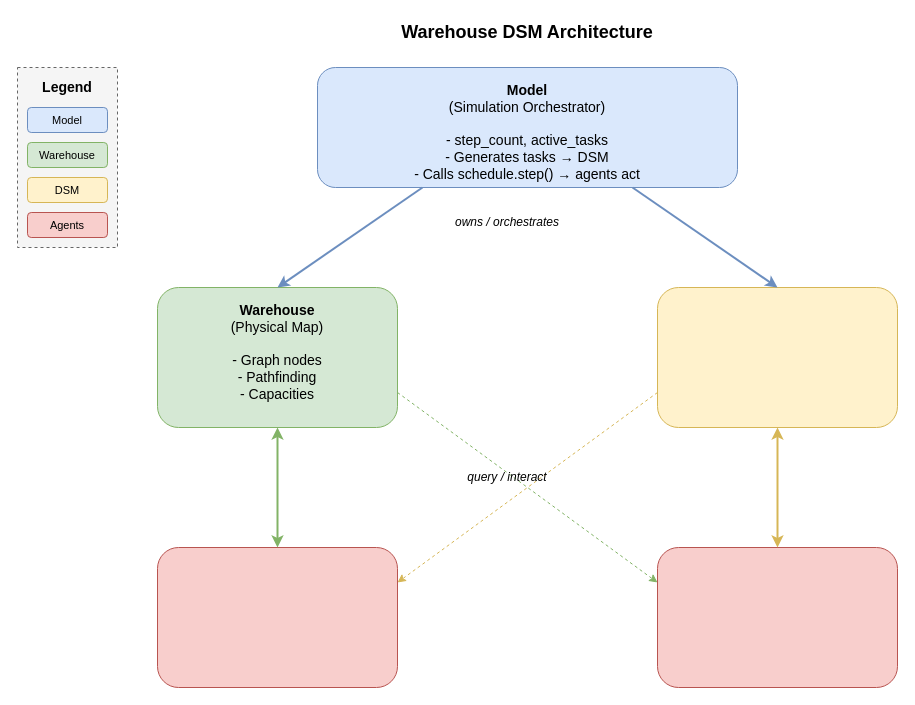
Image size: 915x705. Some labels were removed from this diagram. Here are the shapes that lost their labels. From the top down, the centre of each, then its label:
At point (777, 357): "DSM Registry (Task Data) - task_registry - create_task() - claim_task()".
At point (277, 617): "Agent 0 - node=15 - state=IDLE - Plan path - Claim tasks".
At point (777, 617): "Agent 1 ... N - node=42 - state=WORKING - Plan path - Claim tasks".
